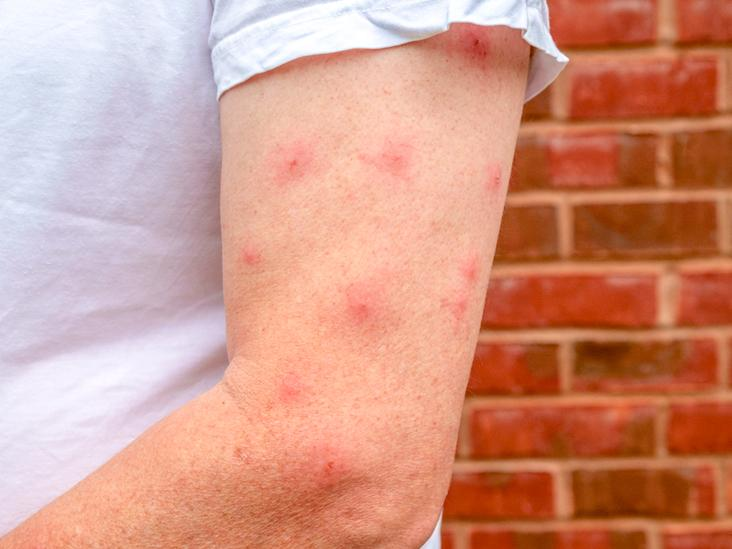Gnat-bites: (211, 228, 280, 296), (437, 246, 488, 334), (345, 264, 402, 342), (263, 354, 316, 428), (451, 26, 510, 88), (367, 142, 440, 192), (277, 140, 322, 194), (475, 162, 514, 214)
